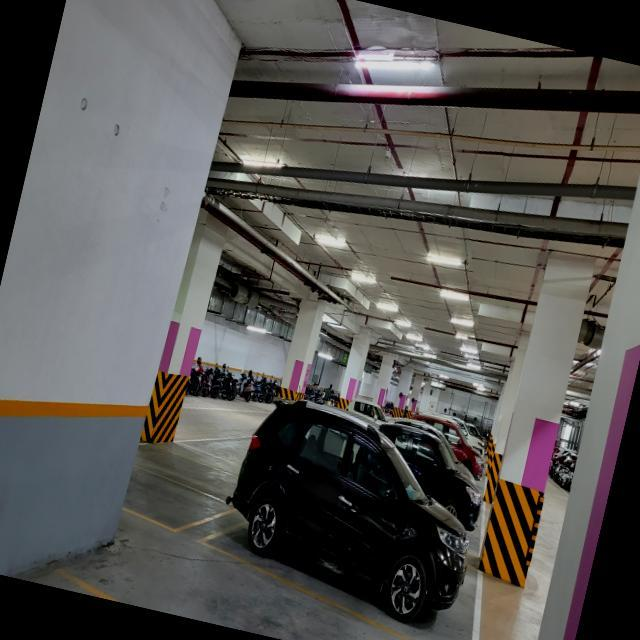car: (226, 487, 488, 623)
free: (107, 460, 237, 553)
